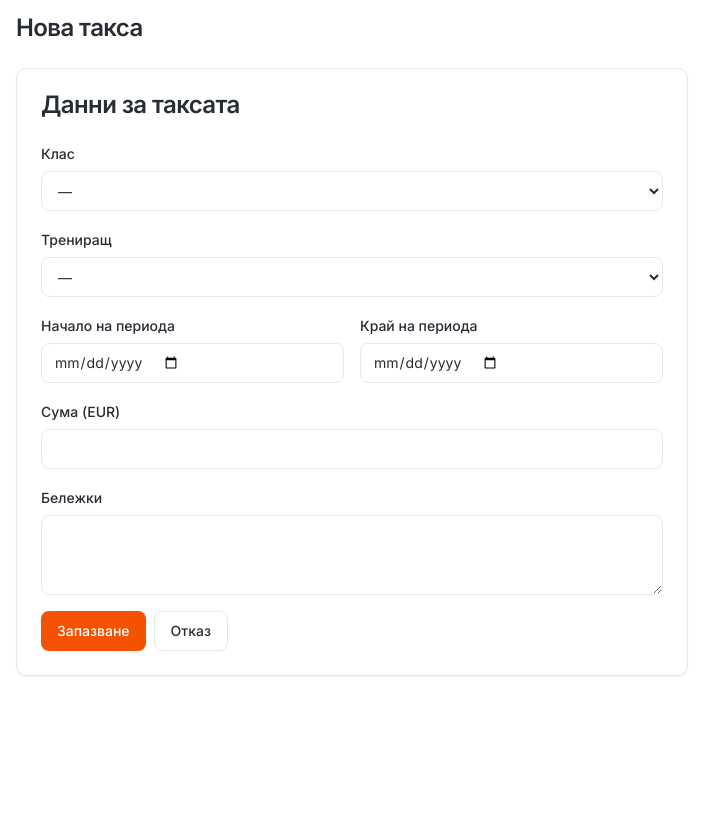
Test: NewFeePage — amount › says what is wrong and wires the a11y attributes when submitted empty
Click the button "Запазване": (93, 631) [41,611,146,651]
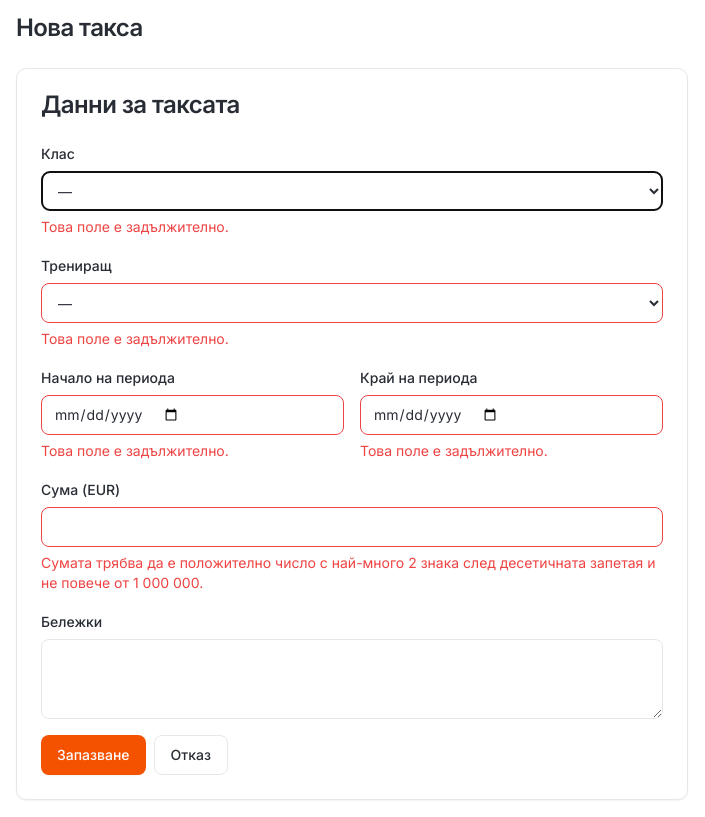
Now the text "Това поле е задължително." below "Клас" is shown, box [41,218,229,235]
